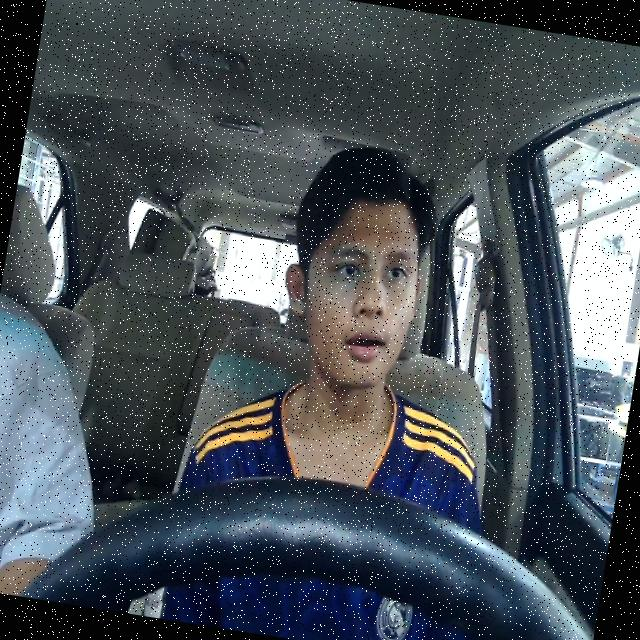yarning: (268, 180, 434, 400)
